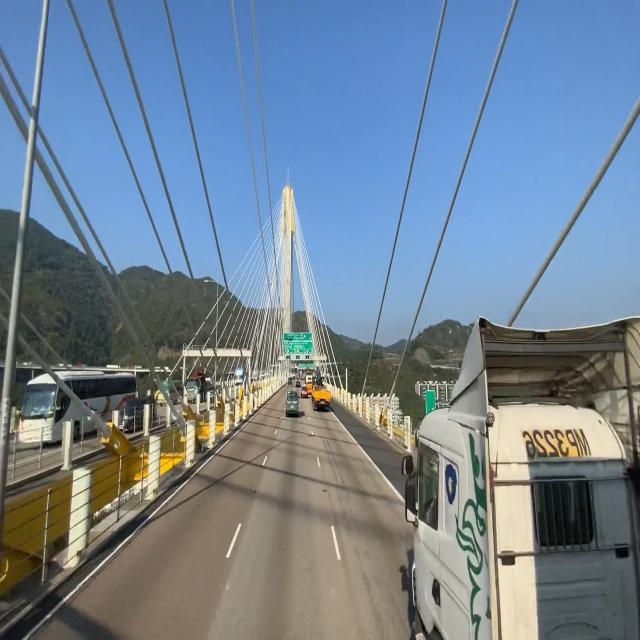Car: (310, 363, 333, 414), (283, 392, 299, 418)
